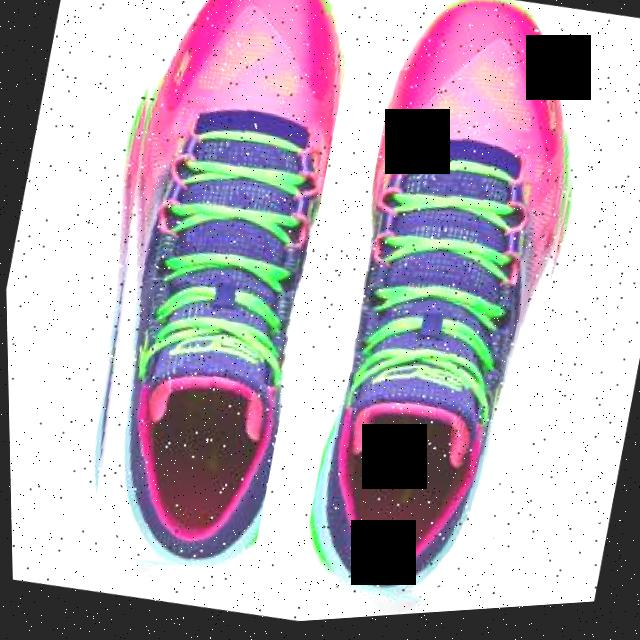shoe: (283, 0, 617, 625), (41, 0, 372, 589)
